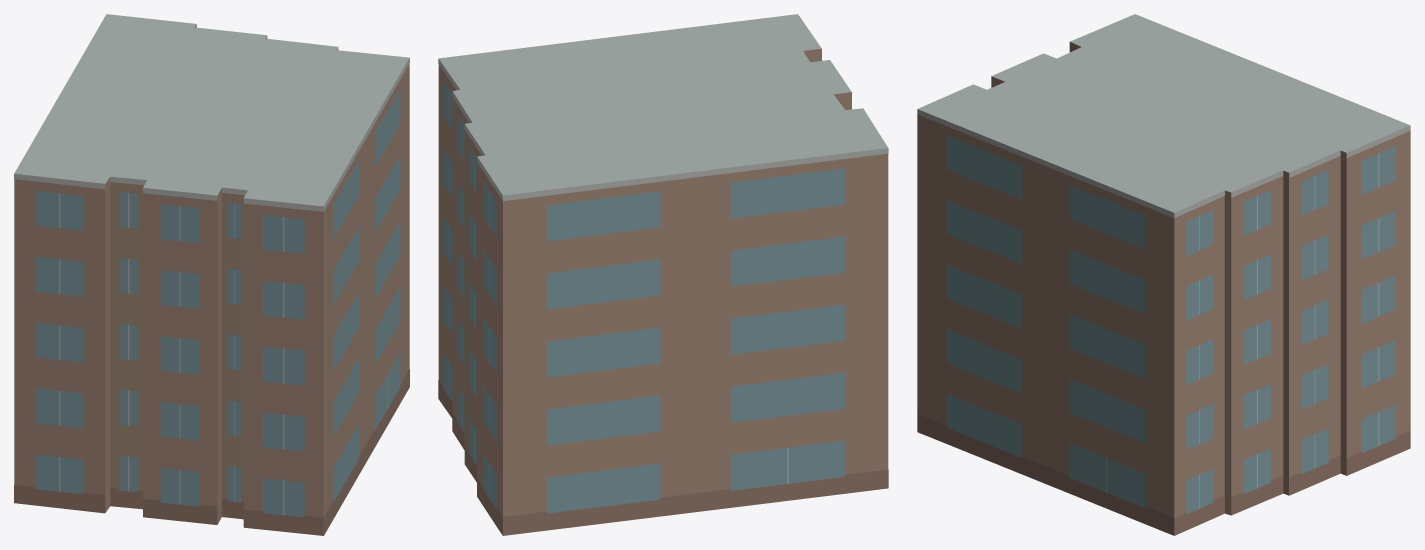
The model's file is survey-upis-32756290.glb.
3 views of the same model, side by side, from view 1: azimuth 30°, elevation 25°; view 2: azimuth 150°, elevation 25°; view 3: azimuth 270°, elevation 25° (orthographic). The views are drawn at different scales.
Parts seen in each view (by area): view 1: survey-upis-32756290.tmp; view 2: survey-upis-32756290.tmp; view 3: survey-upis-32756290.tmp.
Part boxes in pixels (bbox=[...]): survey-upis-32756290.tmp: bbox=[14, 14, 409, 535]; survey-upis-32756290.tmp: bbox=[438, 14, 888, 535]; survey-upis-32756290.tmp: bbox=[917, 14, 1410, 535].
Size of the model in its own units: 19.61 by 14.85 by 20.56.
